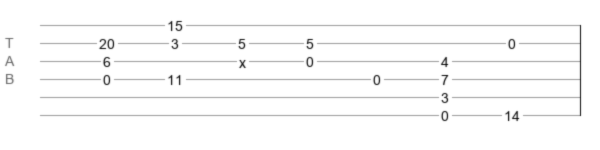0: (103, 72, 111, 82), (306, 54, 314, 64), (373, 72, 381, 82), (441, 108, 449, 118), (508, 36, 516, 46)
11: (167, 72, 183, 82)
14: (504, 108, 520, 118)
15: (167, 18, 183, 28)
20: (99, 36, 115, 46)
3: (171, 36, 179, 46), (441, 90, 449, 100)
4: (441, 54, 449, 64)
5: (238, 36, 246, 46), (306, 36, 314, 46)
6: (103, 54, 111, 64)
7: (441, 72, 449, 82)
x: (239, 55, 246, 63)
